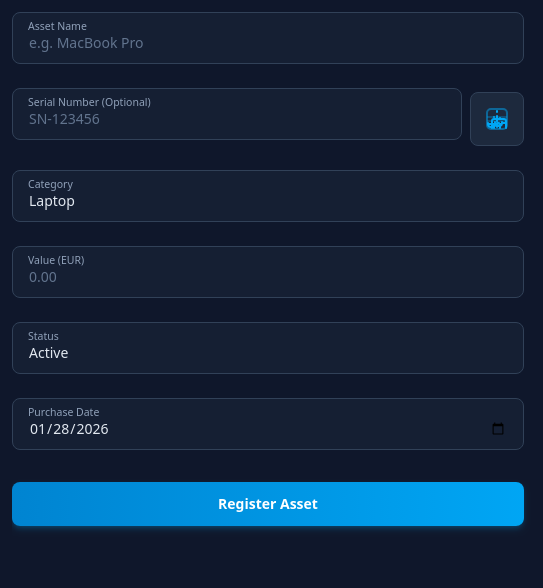
Test: AssetForm › shows validation errors for invalid data
Click the button "Register Asset" at (268, 504), box [12,482,524,526]
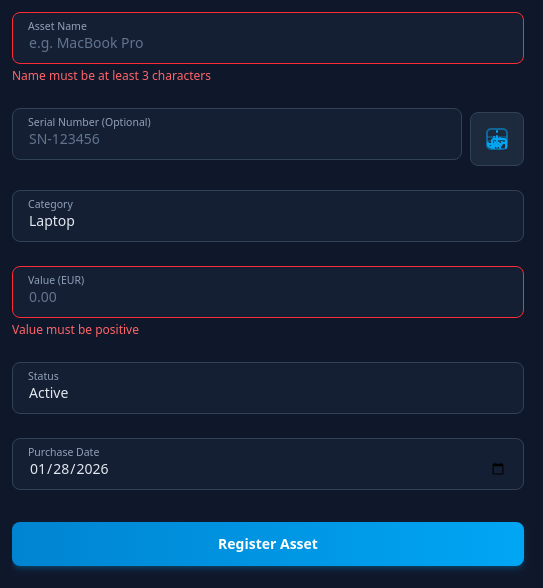
Result: the text "Name must be at least 3 characters" is shown at [12,67,211,84]
Result: the text "Value must be positive" is shown at [12,321,139,338]
